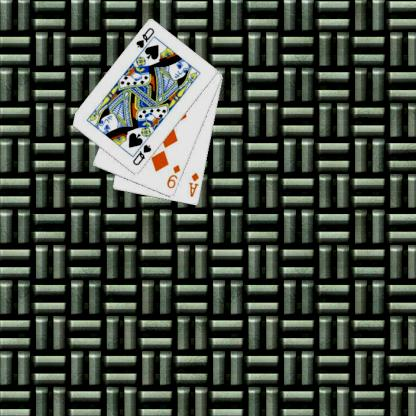9D: (165, 162, 182, 190)
AD: (187, 170, 200, 199)
QS: (130, 142, 152, 166), (134, 26, 156, 50)
